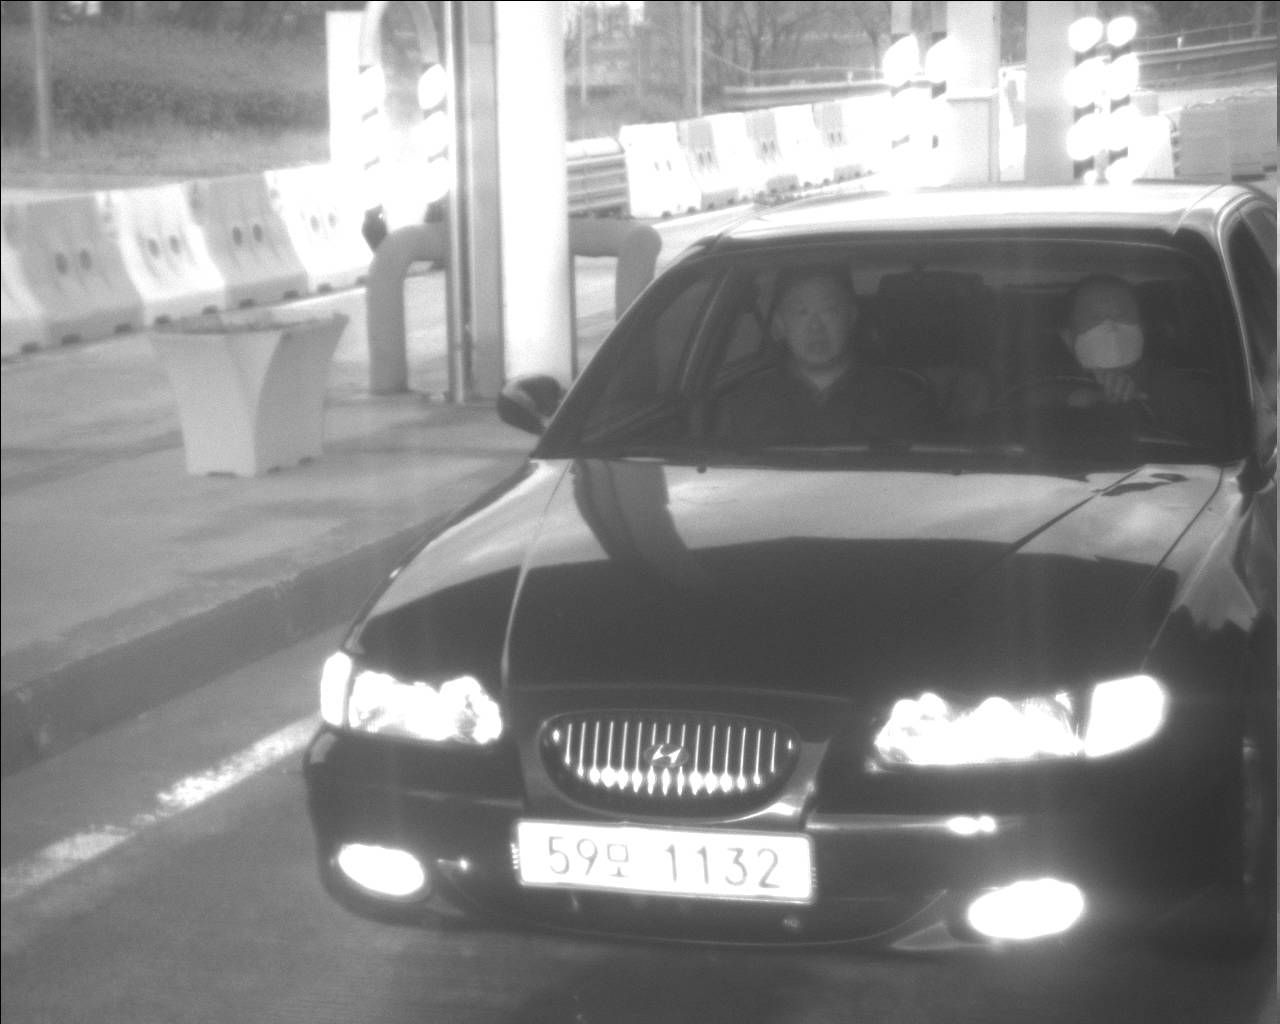car: (299, 179, 1280, 978)
plate: (512, 820, 816, 905)
